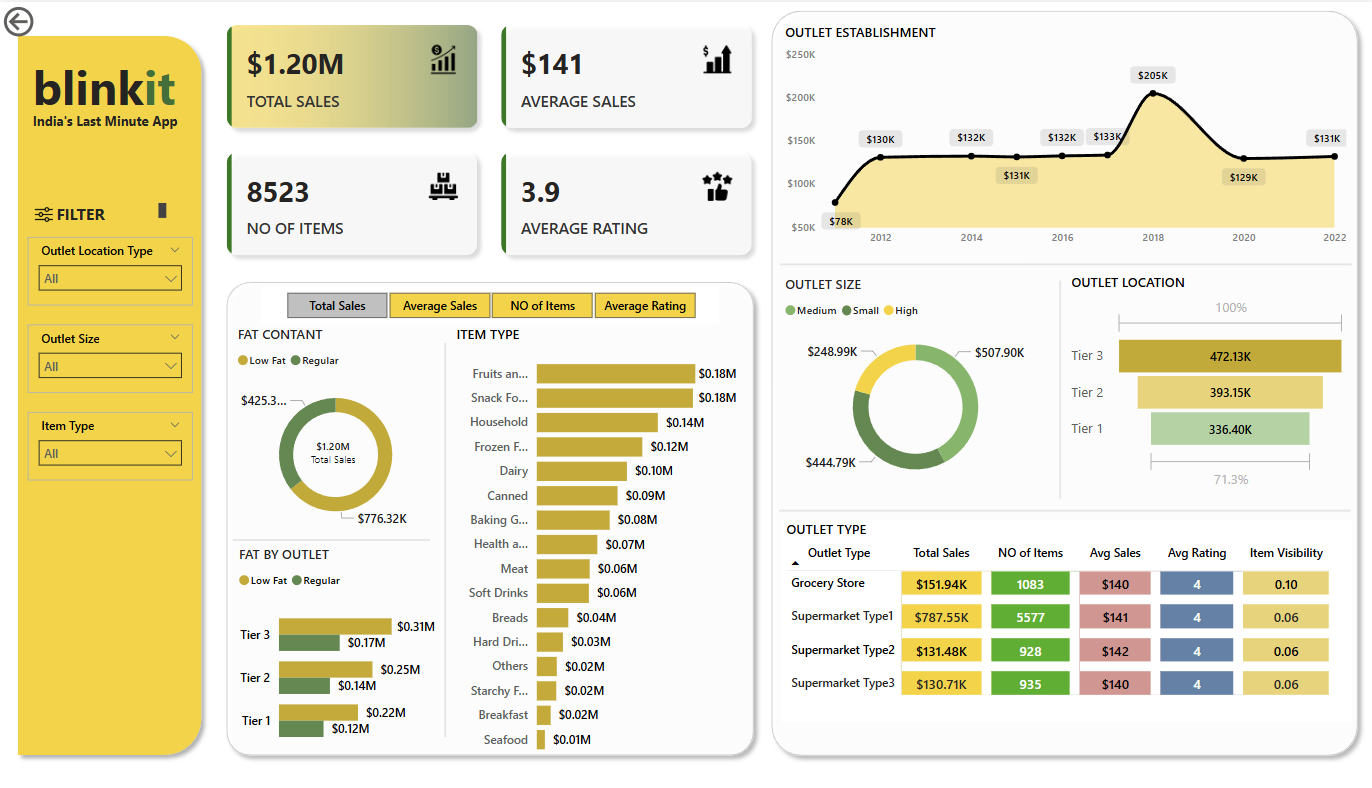

This screenshot's page, from the dashboard's own definition file:
{"tool":"powerbi","page":{"name":"Page 1","canvas":[1400,800],"ordinal":0},"visuals":[{"type":"shape","box":[10.5,25.5,205,750.4],"z":0},{"type":"textbox","box":[29.3,48.3,167.9,83.9],"z":1000},{"type":"textbox","box":[29.3,106.8,167.9,34.3],"z":2000},{"type":"cardVisual","fields":{"Data":["Calculations.Total Sales","Calculations.Average Sales","Calculations.NO of Items","Calculations.Average Rating"]},"box":[214.9,6.4,569.8,269.6],"z":3000},{"type":"shape","box":[222.6,276,554.5,499.8],"z":4000},{"type":"donutChart","title":"FAT CONTANT","fields":{"Y":["Calculations.Total Sales"],"Category":["BlinkIT Grocery Data.Item Fat Content"]},"box":[237.8,328.1,209.8,220],"z":5000},{"type":"slicer","fields":{"Values":["Metrics.Metrics"]},"box":[267.1,288.7,465.5,39.4],"z":6000},{"type":"cardVisual","fields":{"Data":["Calculations.Total Sales"]},"box":[267.1,427.3,146.3,59.8],"z":7000},{"type":"clusteredBarChart","title":"FAT BY OUTLET","fields":{"Y":["Calculations.Total Sales"],"Category":["BlinkIT Grocery Data.Outlet Location Type"],"Series":["BlinkIT Grocery Data.Item Fat Content"]},"box":[239.1,552,209.8,220],"z":7001},{"type":"actionButton","box":[0,0,100,40],"z":7002},{"type":"shape","box":[237.8,540.5,200.9,14],"z":7003},{"type":"shape","box":[447.7,347.2,12.7,400.6],"z":7004},{"type":"barChart","title":"ITEM TYPE","fields":{"Category":["BlinkIT Grocery Data.Item Type"],"Y":["Calculations.Total Sales"]},"box":[460.4,328.1,295.1,447.7],"z":7005},{"type":"shape","box":[777.1,0,614.3,775.8],"z":7006},{"type":"lineChart","title":"OUTLET ESTABLISHMENT","fields":{"Y":["Calculations.Total Sales"],"Category":["BlinkIT Grocery Data.Outlet Establishment Year"]},"box":[794.9,21.6,581.2,235.3],"z":7007},{"type":"shape","box":[794.9,258.2,581.2,17.8],"z":7008},{"type":"donutChart","title":"OUTLET SIZE","fields":{"Y":["Calculations.Total Sales"],"Category":["BlinkIT Grocery Data.Outlet Size"]},"box":[794.9,277.3,275,225],"z":7009},{"type":"shape","box":[1073.4,283.6,12.7,221.3],"z":7010},{"type":"funnel","title":"OUTLET LOCATION","fields":{"Y":["Sum(BlinkIT Grocery Data.Sales)"],"Category":["BlinkIT Grocery Data.Outlet Location Type"]},"box":[1086.1,276,290,225.1],"z":7011},{"type":"shape","box":[793.6,508.7,581.2,17.8],"z":7012},{"type":"pivotTable","title":"OUTLET TYPE","fields":{"Rows":["BlinkIT Grocery Data.Outlet Type"],"Values":["Calculations.Total Sales","Calculations.NO of Items","Calculations.Average Sales","Calculations.Average Rating","Avg(BlinkIT Grocery Data.Item Visibility)"]},"box":[796.2,526.5,579.9,206],"z":7013},{"type":"slicer","fields":{"Values":["BlinkIT Grocery Data.Outlet Location Type"]},"box":[29.3,239.1,167.9,69.9],"z":7014},{"type":"slicer","fields":{"Values":["BlinkIT Grocery Data.Outlet Size"]},"box":[29.3,328.1,167.9,69.9],"z":7015},{"type":"slicer","fields":{"Values":["BlinkIT Grocery Data.Item Type"]},"box":[29.3,417.2,167.9,69.9],"z":7016},{"type":"textbox","box":[53.4,199.7,122.1,31.8],"z":7017},{"type":"image","box":[29.3,202.2,33.1,28],"z":7018}]}

Visuals, with their boxes in screenshot pixels (x1, y1, x2, y2), scaled from the page's 1400x800 canvas onto the 1372x788 screenshot:
shape: (left=10, top=25, right=211, bottom=764)
textbox: (left=29, top=48, right=193, bottom=130)
textbox: (left=29, top=105, right=193, bottom=139)
cardVisual - Calculations.Total Sales x Calculations.Average Sales: (left=211, top=6, right=769, bottom=272)
shape: (left=218, top=272, right=762, bottom=764)
"FAT CONTANT" donutChart: (left=233, top=323, right=439, bottom=540)
slicer - Metrics.Metrics: (left=262, top=284, right=718, bottom=323)
cardVisual - Calculations.Total Sales: (left=262, top=421, right=405, bottom=480)
"FAT BY OUTLET" clusteredBarChart: (left=234, top=544, right=440, bottom=760)
actionButton: (left=0, top=0, right=98, bottom=39)
shape: (left=233, top=532, right=430, bottom=546)
shape: (left=439, top=342, right=451, bottom=737)
"ITEM TYPE" barChart: (left=451, top=323, right=740, bottom=764)
shape: (left=762, top=0, right=1364, bottom=764)
"OUTLET ESTABLISHMENT" lineChart: (left=779, top=21, right=1349, bottom=253)
shape: (left=779, top=254, right=1349, bottom=272)
"OUTLET SIZE" donutChart: (left=779, top=273, right=1049, bottom=495)
shape: (left=1052, top=279, right=1064, bottom=497)
"OUTLET LOCATION" funnel: (left=1064, top=272, right=1349, bottom=494)
shape: (left=778, top=501, right=1347, bottom=519)
"OUTLET TYPE" pivotTable: (left=780, top=519, right=1349, bottom=722)
slicer - BlinkIT Grocery Data.Outlet Location Type: (left=29, top=236, right=193, bottom=304)
slicer - BlinkIT Grocery Data.Outlet Size: (left=29, top=323, right=193, bottom=392)
slicer - BlinkIT Grocery Data.Item Type: (left=29, top=411, right=193, bottom=480)
textbox: (left=52, top=197, right=172, bottom=228)
image: (left=29, top=199, right=61, bottom=227)
